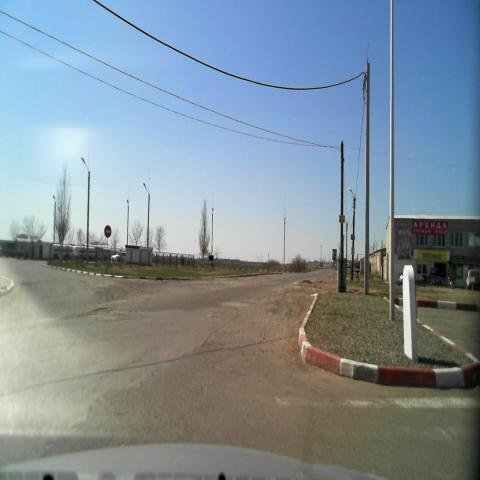3_1: (104, 225, 112, 239)
